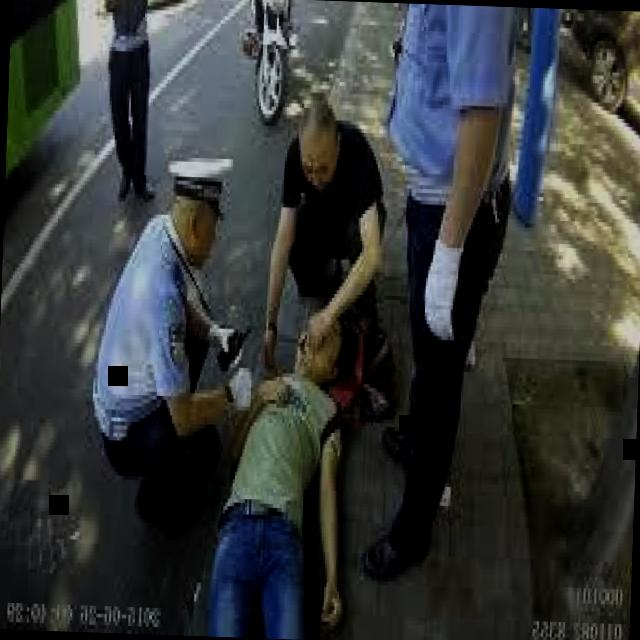Fall-Detected: (183, 288, 380, 634)
